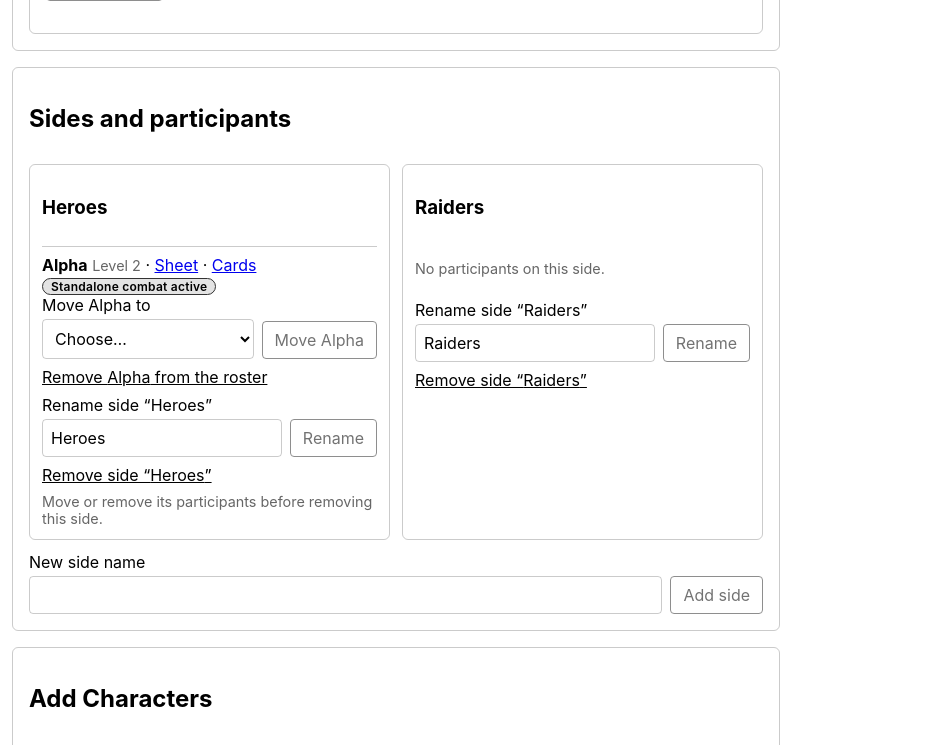
Test case: M7-WO1 encounter workspace › an occupied side cannot be removed from the UI; an empty one asks first, then sends one command
(page scrolled)
Check: the button "Remove side “Heroes”" is disabled, box [42,465,212,485]
Check: the text "Move or remove its participants before removing this side." is shown, box [42,493,377,527]
What coordinates should you click on to do the following:
click the button "Remove side “Raiders”"
I would click on:
 (501, 380)
Its box is [415,370,587,390].
(page scrolled)
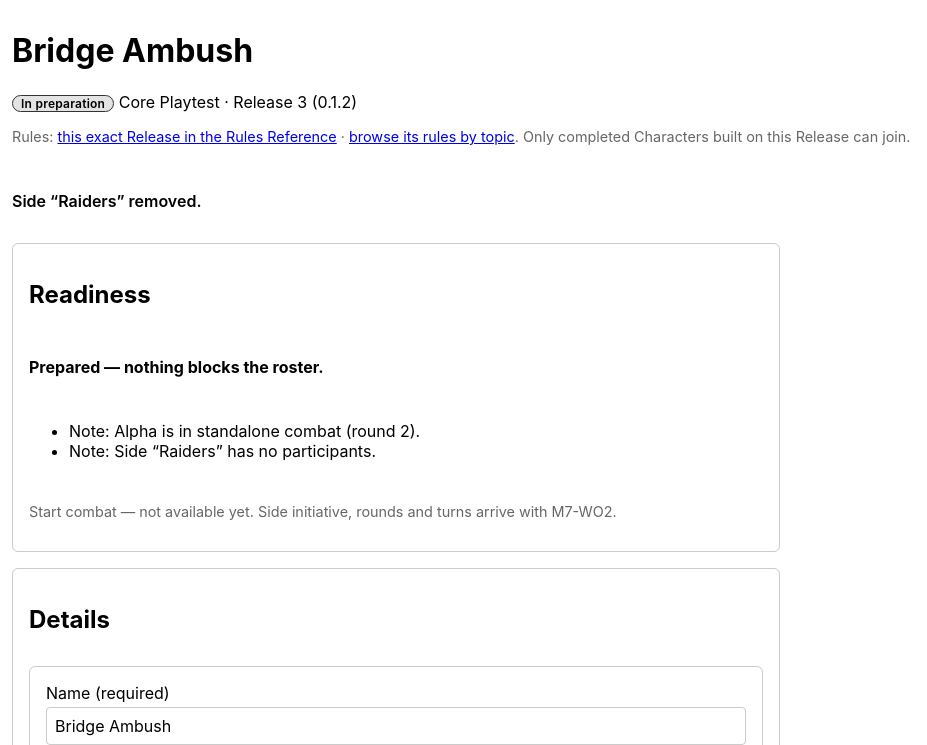
Check: the text "Side “Raiders” removed." is shown, box [12,191,202,211]
